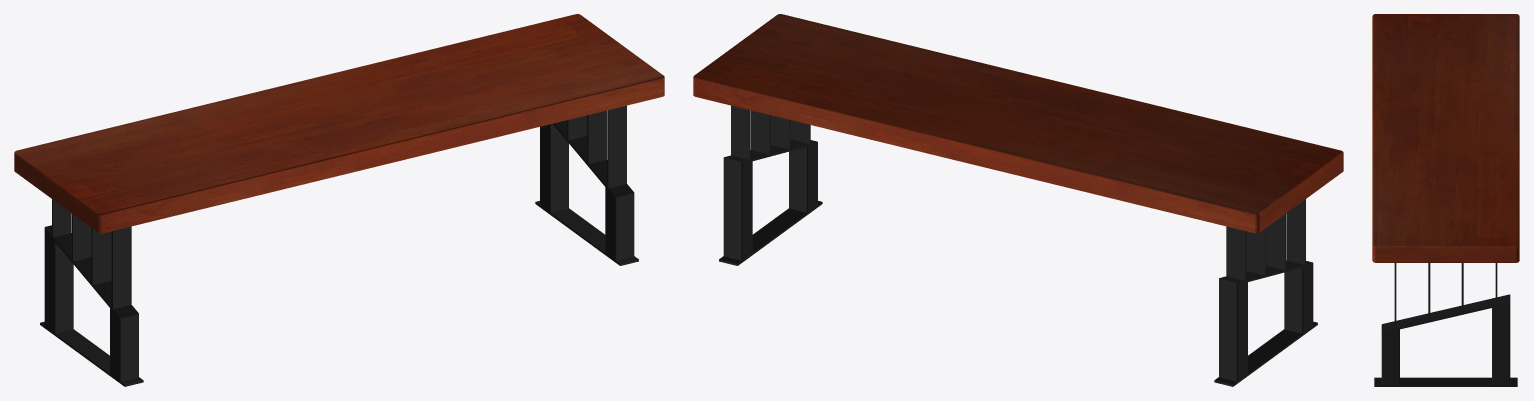
File: table.glb
The picture shows the model from 3 angles, left to right: view 1: azimuth 30°, elevation 25°; view 2: azimuth 150°, elevation 25°; view 3: azimuth 270°, elevation 25°; orthographic projection. The views are drawn at different scales.
Visible parts, largest first — view 1: Object_2, Object_4; view 2: Object_2, Object_4; view 3: Object_2, Object_4.
Boxes of the visible parts, bbox=[...] form: Object_2: bbox=[14, 14, 664, 233]; Object_4: bbox=[40, 105, 638, 386]; Object_2: bbox=[693, 14, 1343, 233]; Object_4: bbox=[719, 105, 1317, 386]; Object_2: bbox=[1372, 14, 1519, 262]; Object_4: bbox=[1374, 263, 1517, 386].
Bounding box in the file's own units: 1.48 × 0.4469 × 0.3937.
Materials: 5 (5 with a texture image).
